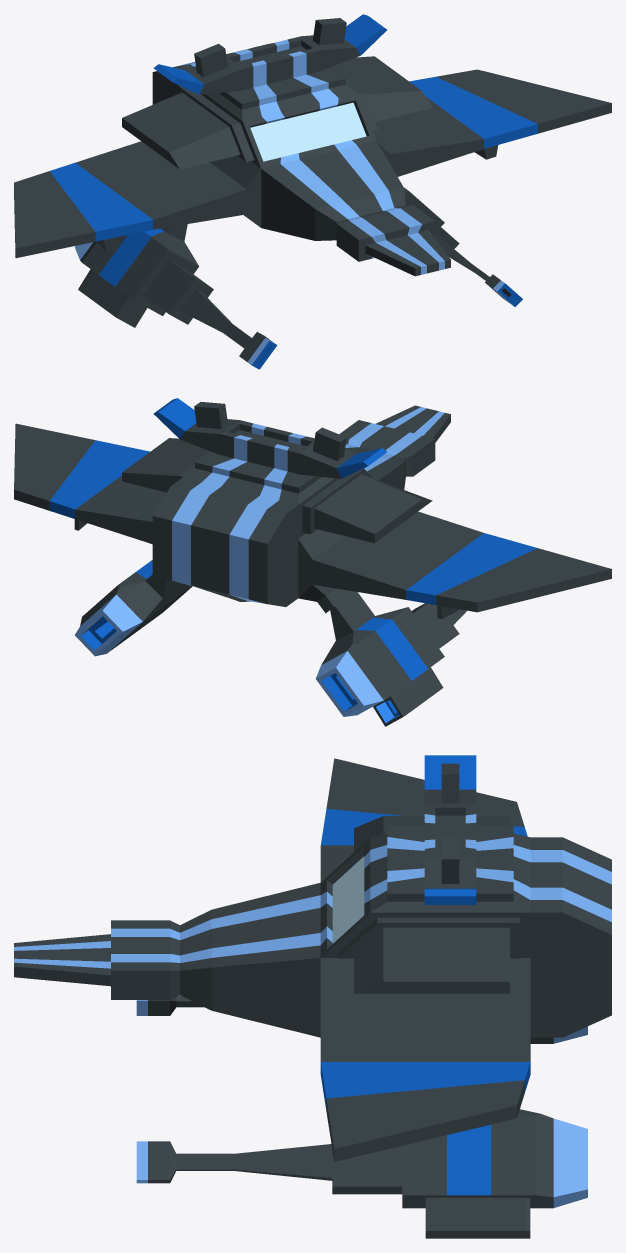
Rendered from space_ship2.glb.
3 views of the same model, one above another, from view 1: azimuth 30°, elevation 25°; view 2: azimuth 150°, elevation 25°; view 3: azimuth 270°, elevation 25° (orthographic). The views are drawn at different scales.
Parts seen in each view (by area): view 1: Cube_0; view 2: Cube_0; view 3: Cube_0.
Boxes of the visible parts, bbox=[...] form: Cube_0: bbox=[14, 14, 611, 369]; Cube_0: bbox=[14, 398, 611, 726]; Cube_0: bbox=[14, 755, 611, 1238].
Bounding box in the file's own units: 10.37 × 4.18 × 6.71.
1 material, 1 textured.
